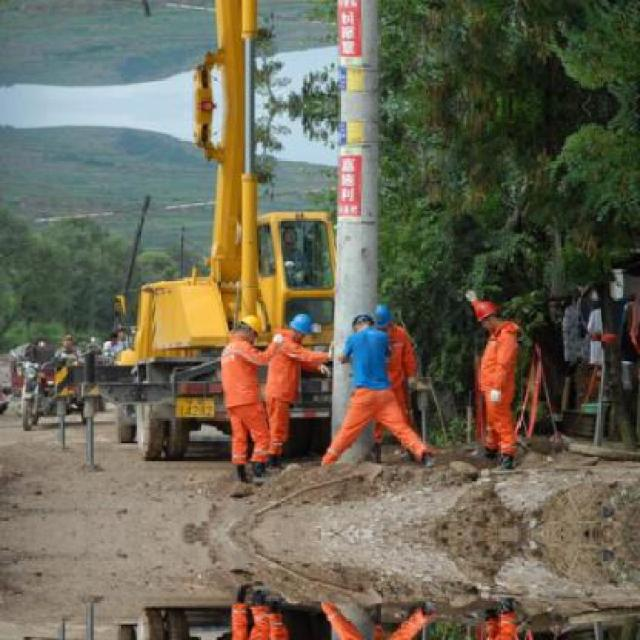helmet: (230, 314, 262, 344), (470, 300, 499, 331), (282, 310, 312, 339), (343, 309, 371, 334), (373, 302, 396, 332)
